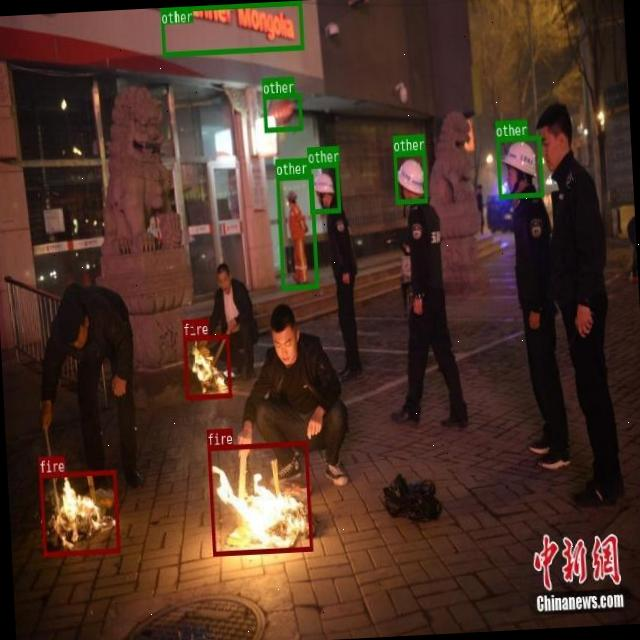fire: (207, 440, 313, 555), (40, 469, 120, 556), (183, 334, 232, 399)
